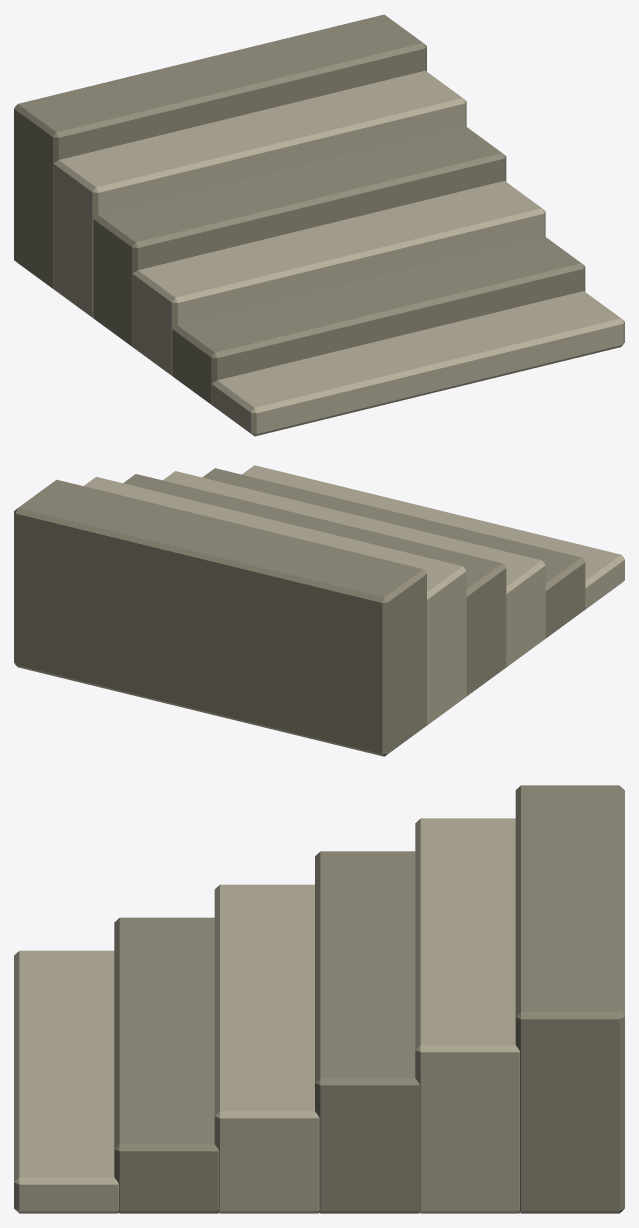
File: steps_stone.glb
3 renders of one model, top to bottom at view 1: azimuth 30°, elevation 25°; view 2: azimuth 150°, elevation 25°; view 3: azimuth 270°, elevation 25°, orthographic. The views are drawn at different scales.
Visible parts, largest first — view 1: Steps; view 2: Steps; view 3: Steps.
Part boxes in pixels (x1,y1,x2,y2): Steps: (14,14,624,436); Steps: (14,465,624,756); Steps: (14,785,624,1213).
Size of what is drawn, in the model's own units: 3 by 1.22 by 3.35.
